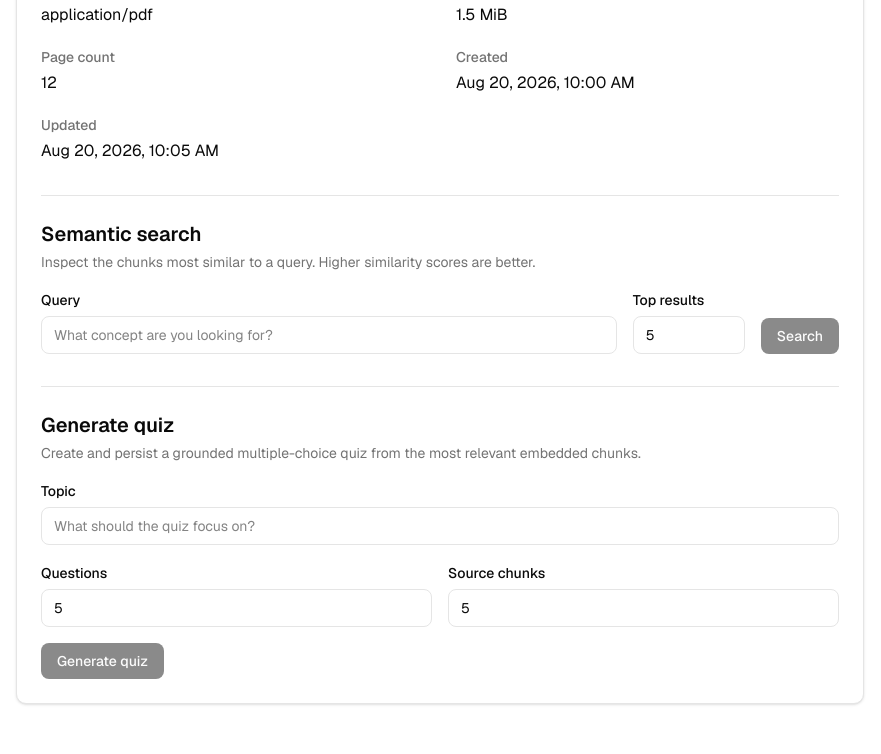
Test: DocumentWorkspace › renders a safe quiz-generation error
The width and height of the screenshot is (881, 754).
(page scrolled)
Type "interfaces" into the field labelled "Topic" at (440, 526), box [41,507,839,545]
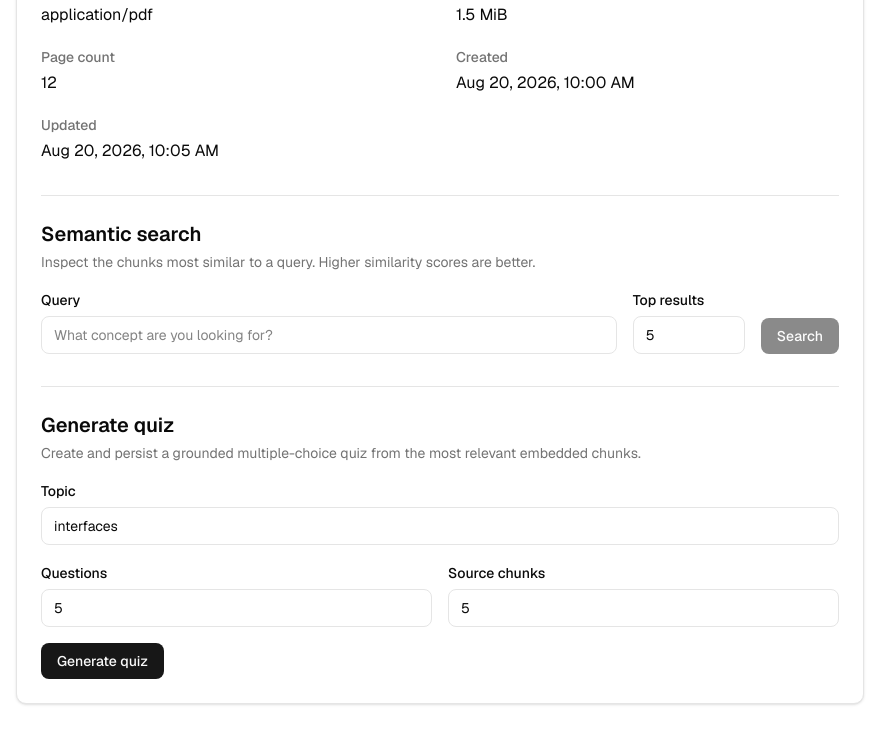
Click the button "Generate quiz" at (102, 661), box [41,643,164,679]
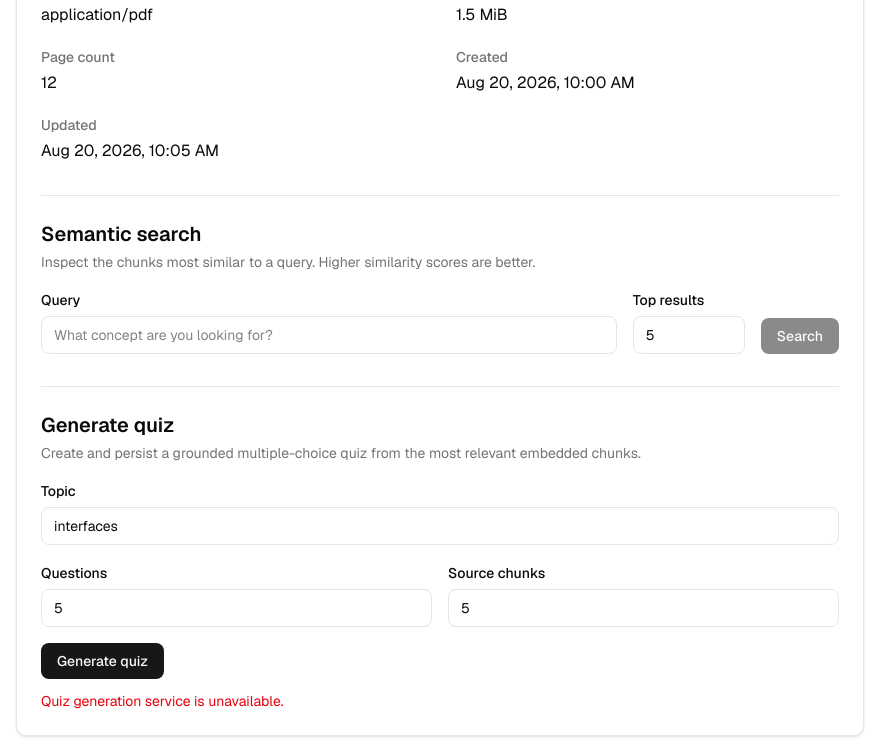
Expected: the message reads "Quiz generation service is unavailable.", [41,692,284,710]
